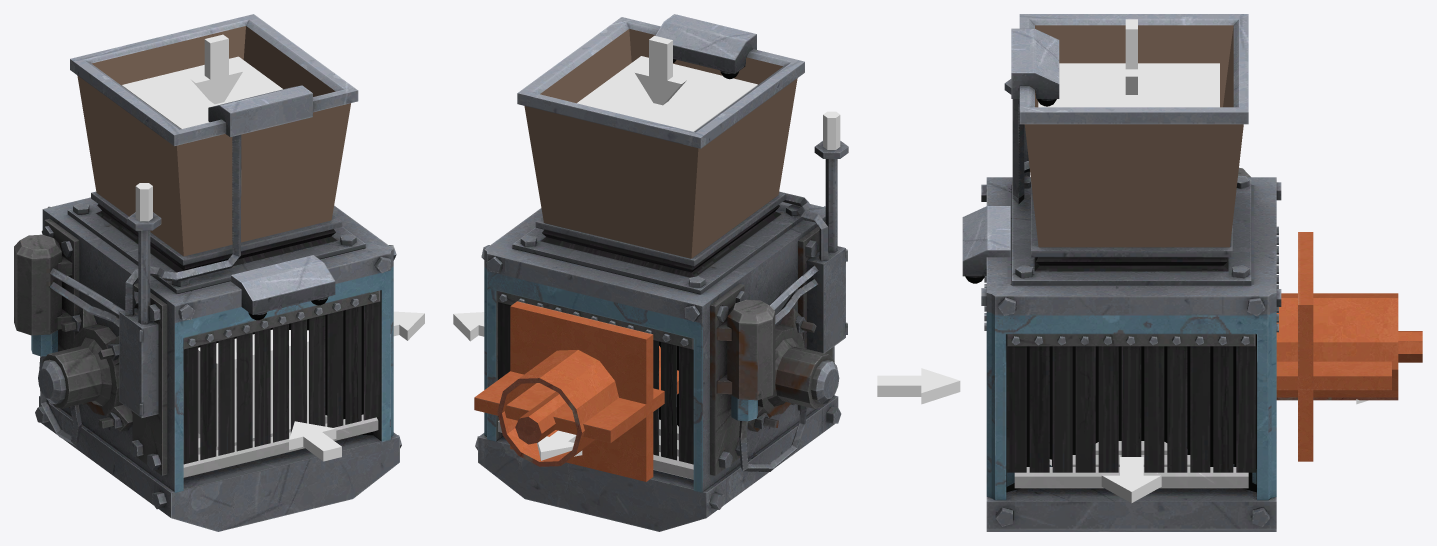
Rendered from RollerSorter.glb.
3 renders of one model, left to right at view 1: azimuth 30°, elevation 25°; view 2: azimuth 150°, elevation 25°; view 3: azimuth 270°, elevation 25°, orthographic. The views are drawn at different scales.
Visible parts, largest first — view 1: RollerSorter, FilterTrigger, ghostarrow (3), SorterTrigger, ghostarrow, ghostarrow (2); view 2: RollerSorter, CopperPlate_Polished (3), FilterTrigger, CopperPlate_Polished (1), CopperPlate_Polished, ghostarrow (3), CopperPlate_Polished (2), ghostarrow (1), ghostarrow (2); view 3: RollerSorter, CopperPlate_Polished (1), FilterTrigger, CopperPlate_Polished (3), CopperPlate_Polished, ghostarrow, ghostarrow (2), ghostarrow (3), CopperPlate_Polished (2).
Boxes of the visible parts, <box> form: RollerSorter: <box>14,14,401,531</box>; FilterTrigger: <box>121,56,282,129</box>; ghostarrow (3): <box>190,34,242,104</box>; SorterTrigger: <box>198,329,308,446</box>; ghostarrow: <box>289,421,341,461</box>; ghostarrow (2): <box>393,311,424,340</box>; RollerSorter: <box>475,14,848,531</box>; CopperPlate_Polished (3): <box>510,301,653,481</box>; FilterTrigger: <box>577,56,757,131</box>; CopperPlate_Polished (1): <box>497,346,660,466</box>; CopperPlate_Polished: <box>474,367,678,443</box>; ghostarrow (3): <box>635,35,686,105</box>; CopperPlate_Polished (2): <box>515,391,567,444</box>; ghostarrow (1): <box>537,430,582,460</box>; ghostarrow (2): <box>453,312,484,341</box>; RollerSorter: <box>962,14,1281,531</box>; CopperPlate_Polished (1): <box>1276,293,1398,400</box>; FilterTrigger: <box>1038,63,1219,107</box>; CopperPlate_Polished (3): <box>1298,232,1313,461</box>; CopperPlate_Polished: <box>1276,361,1391,390</box>; ghostarrow: <box>877,368,960,404</box>; ghostarrow (2): <box>1101,457,1161,503</box>; ghostarrow (3): <box>1125,19,1137,94</box>; CopperPlate_Polished (2): <box>1398,331,1422,362</box>.
Size of the model in its own units: 1.65 by 1.79 by 1.88.
Materials: 8 (4 with a texture image).
